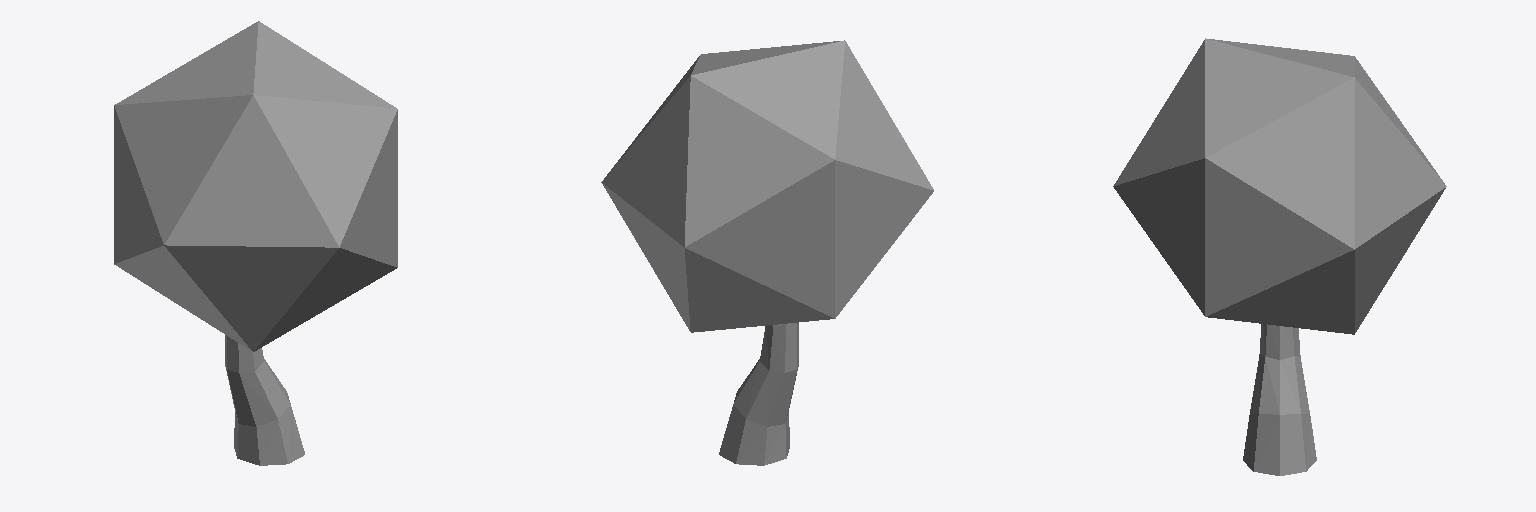
File: Bush3.obj
The picture shows the model from 3 angles: view 1: azimuth 30°, elevation 25°; view 2: azimuth 150°, elevation 25°; view 3: azimuth 270°, elevation 25°; orthographic projection.
Parts seen in each view (by area): view 1: Icosphere_Icosphere.004; view 2: Icosphere_Icosphere.004; view 3: Icosphere_Icosphere.004.
Part boxes in pixels (bbox=[...]): Icosphere_Icosphere.004: bbox=[114, 21, 397, 465]; Icosphere_Icosphere.004: bbox=[601, 40, 933, 465]; Icosphere_Icosphere.004: bbox=[1113, 38, 1446, 475].
Bounding box in the file's own units: 0.8552 × 1.25 × 0.9562.